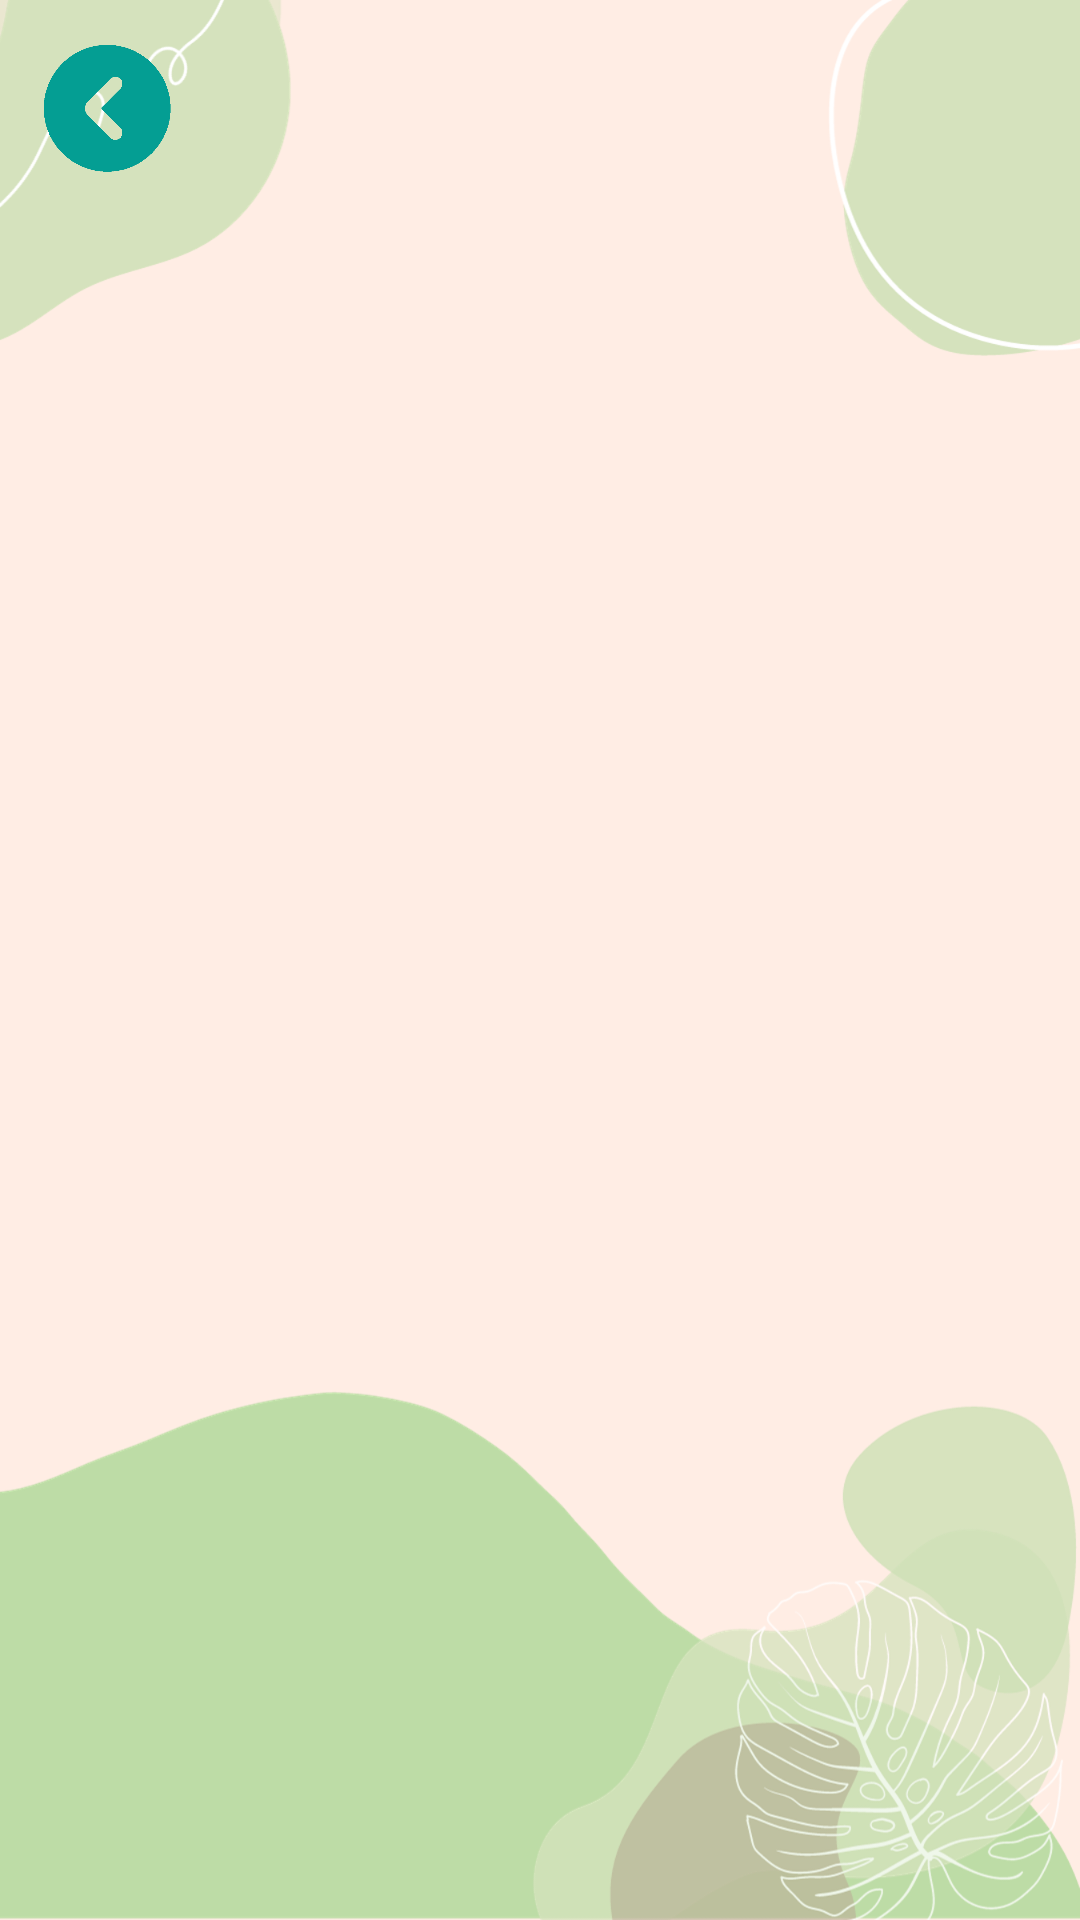

Named icons in this screenshot (1080x1920) and their bounding boxes, bbox=(x1, y1, x2, y2):
backicon: bbox=(41, 45, 173, 172)
